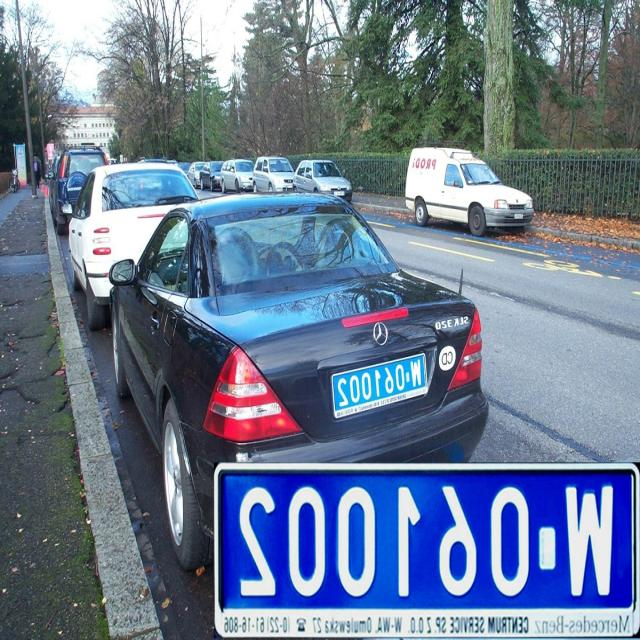pl_license_plate: (218, 466, 636, 610)
